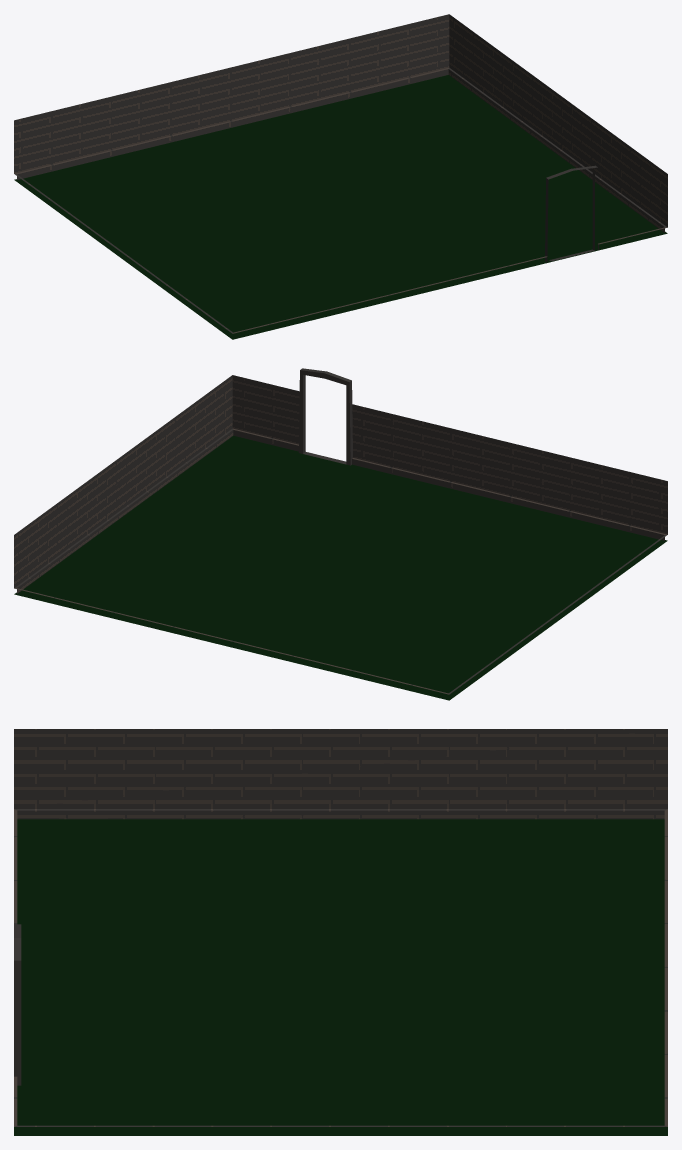
Rendered from BackLounge.obj.
3 views of the same model, one above another, from view 1: azimuth 30°, elevation 25°; view 2: azimuth 150°, elevation 25°; view 3: azimuth 270°, elevation 25° (orthographic). The views are drawn at different scales.
Visible parts, largest first — view 1: BackLounge_Plane.009; view 2: BackLounge_Plane.009; view 3: BackLounge_Plane.009.
Boxes of the visible parts, <box> form: BackLounge_Plane.009: <box>14,14,667,339</box>; BackLounge_Plane.009: <box>14,368,667,700</box>; BackLounge_Plane.009: <box>14,729,667,1135</box>.
Bounding box in the file's own units: 11.5 × 2.17 × 10.
